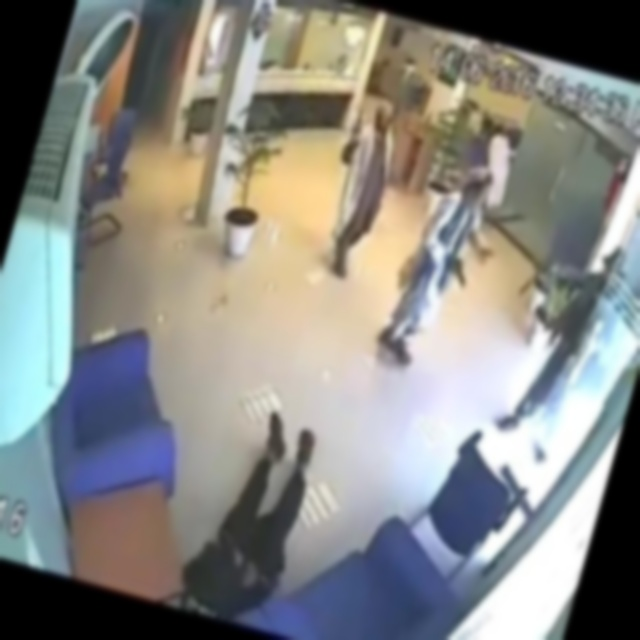gun: (441, 249, 476, 292), (349, 106, 368, 137)
